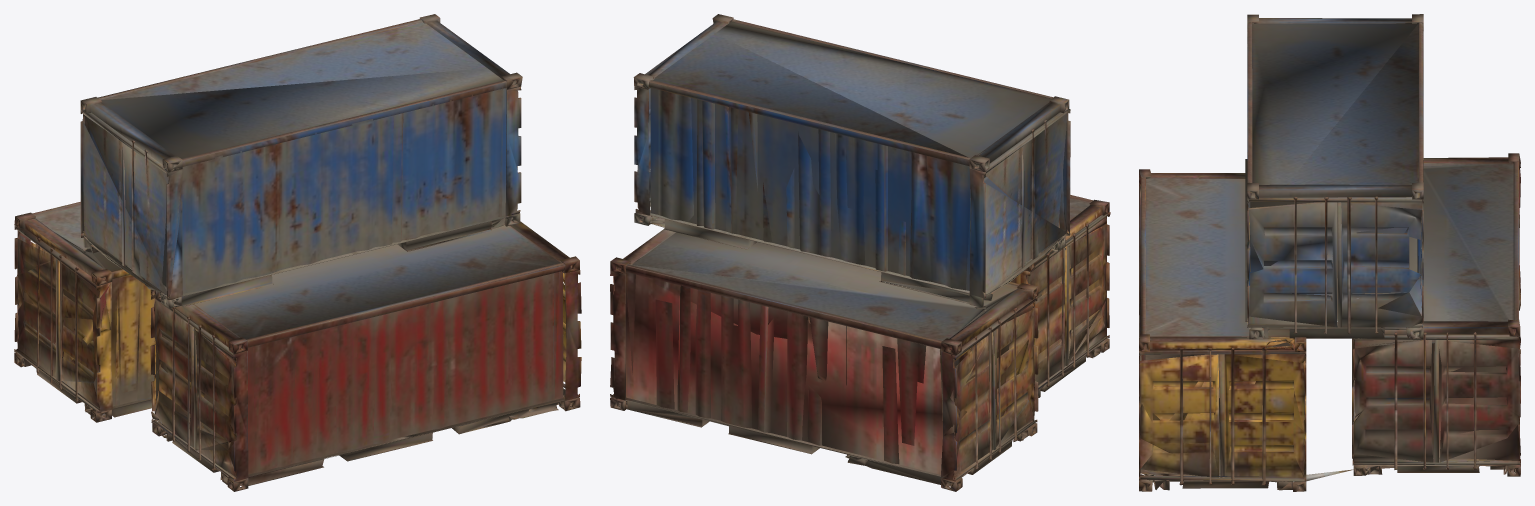
File: boxes.glb
3 renders of one model, left to right at view 1: azimuth 30°, elevation 25°; view 2: azimuth 150°, elevation 25°; view 3: azimuth 270°, elevation 25°, orthographic. The views are drawn at different scales.
Visible parts, largest first — view 1: boxes; view 2: boxes; view 3: boxes.
Boxes of the visible parts, x1,y1,x2,y2 form: boxes: (14, 14, 581, 491); boxes: (610, 14, 1110, 491); boxes: (1139, 14, 1520, 491).
Size of the model in its own units: 7.18 by 5.3 by 6.14.
1 material, 1 textured.
